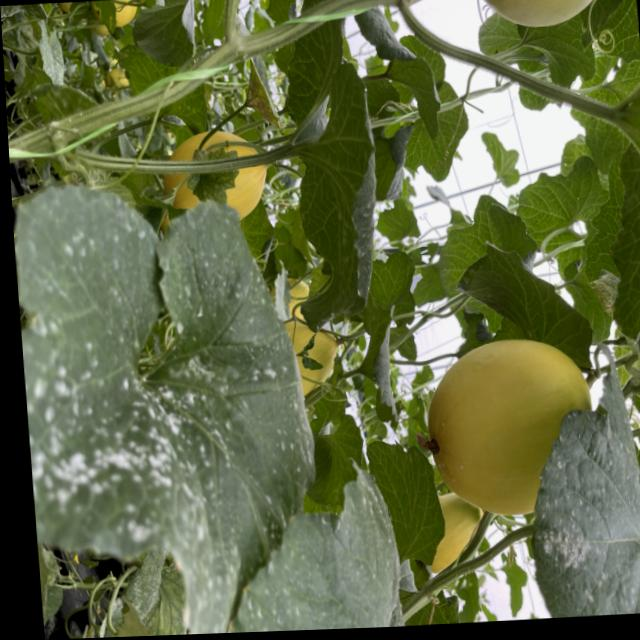healthy: (600, 0, 640, 447)
powdery mildew: (10, 150, 358, 640), (520, 380, 640, 619)
